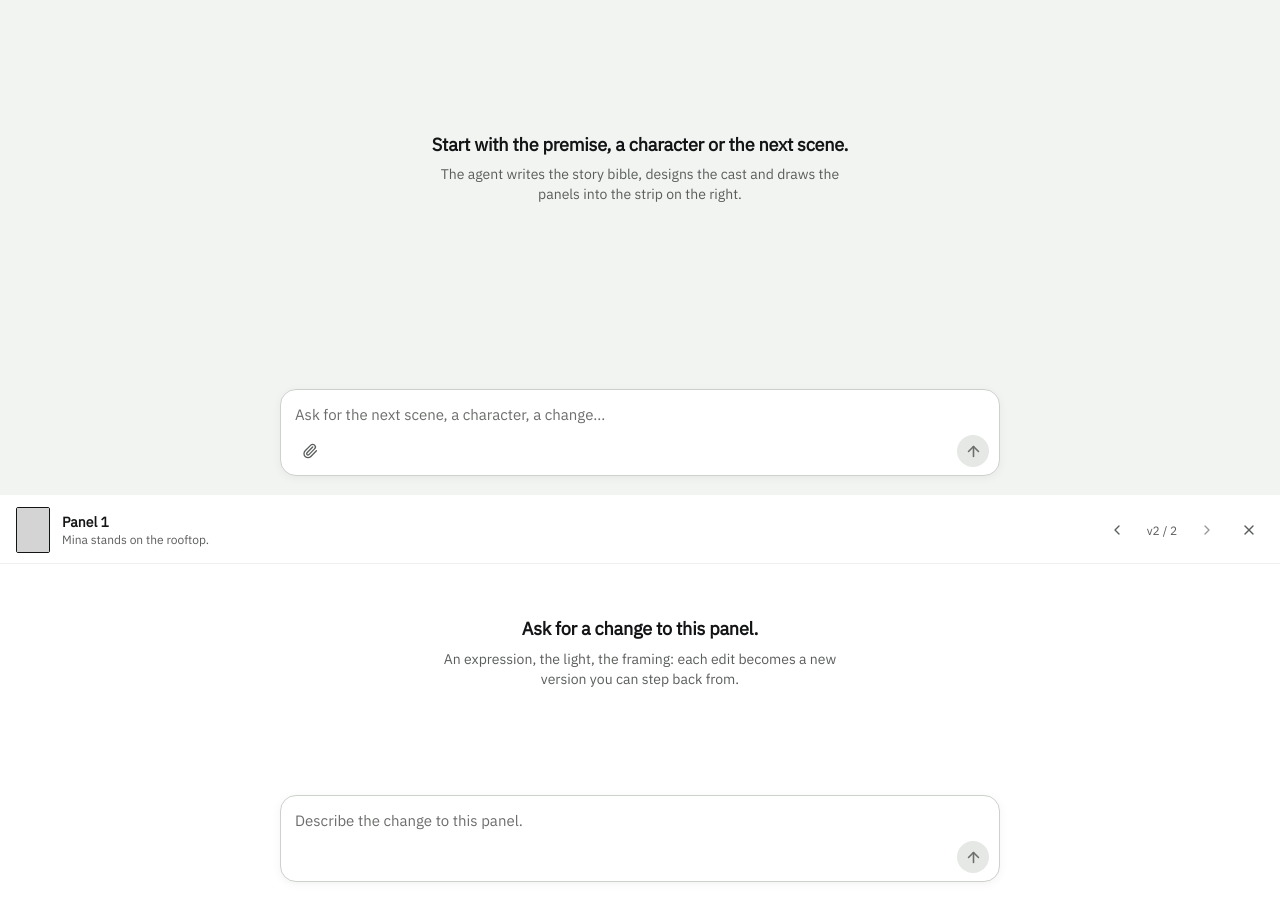
Test: VersionSwitcher › shows a failed revert and keeps the label
Click the button with test id "version-prev". click: (1117, 530)
box: [1102,516,1132,546]
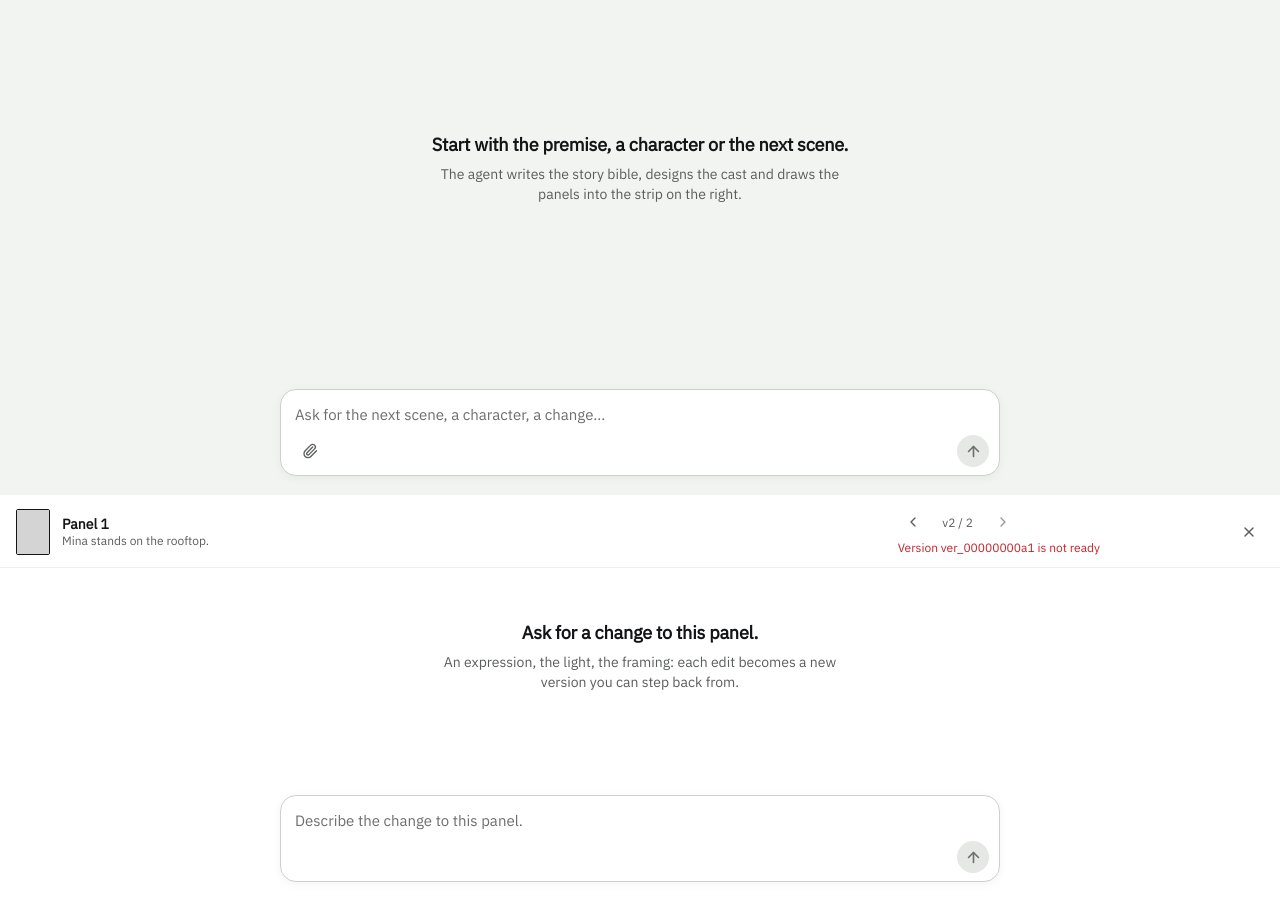
Expected: the text with test id "panel-version-label" reads "v2 / 2", [942,515,973,530]
Result: the message reads "Version ver_00000000a1 is not ready" at [898,540,1100,556]
